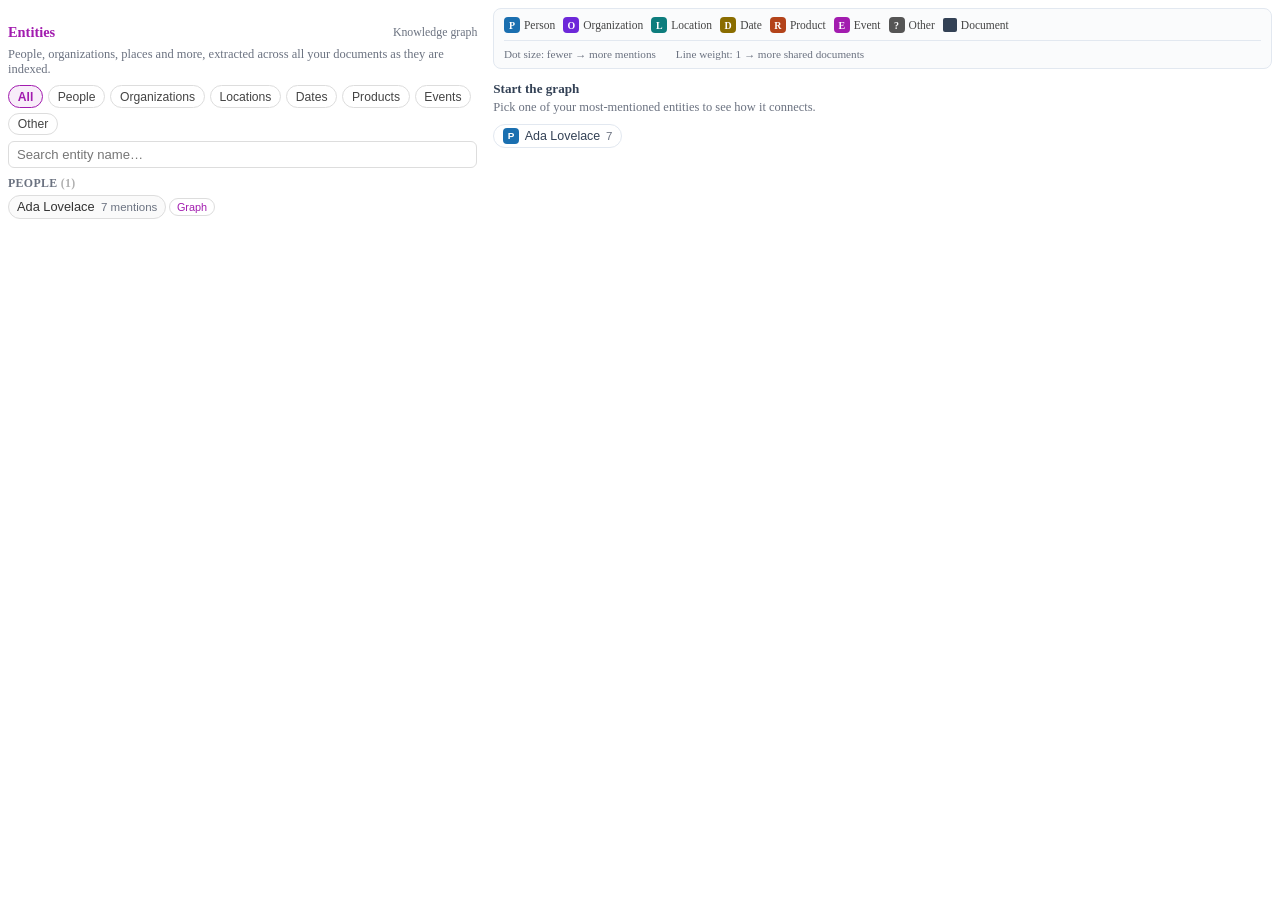
Test: selecting a document drives the rail to that document's entities
Click the button with test id "entity-open-in-graph" at (192, 207), box [170,198,214,216]
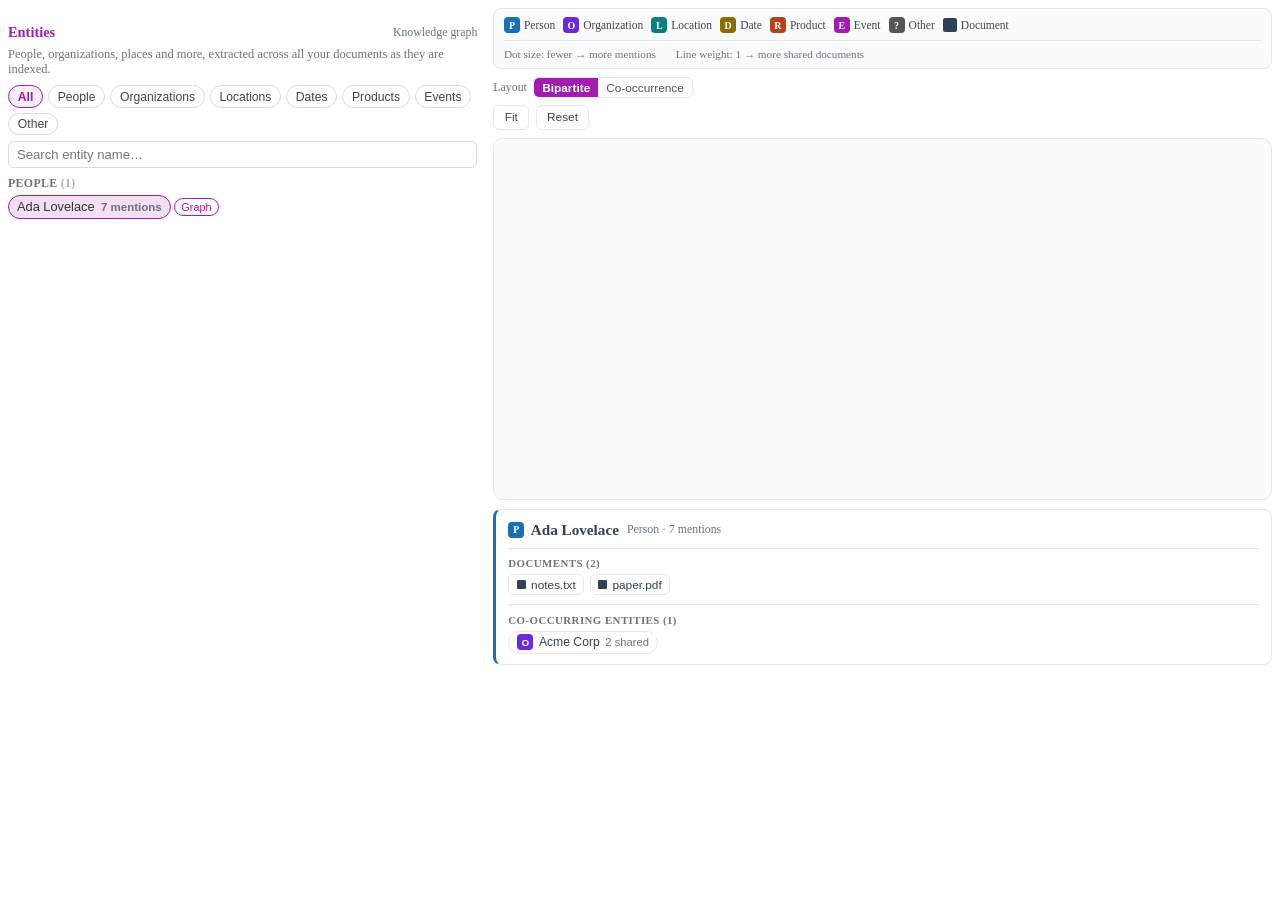
Expected: the element with test id "graph-detail" is shown, [493,509,1272,665]
Click the button with test id "graph-doc" showing "notes.txt" at (546, 585), box [508,574,584,595]
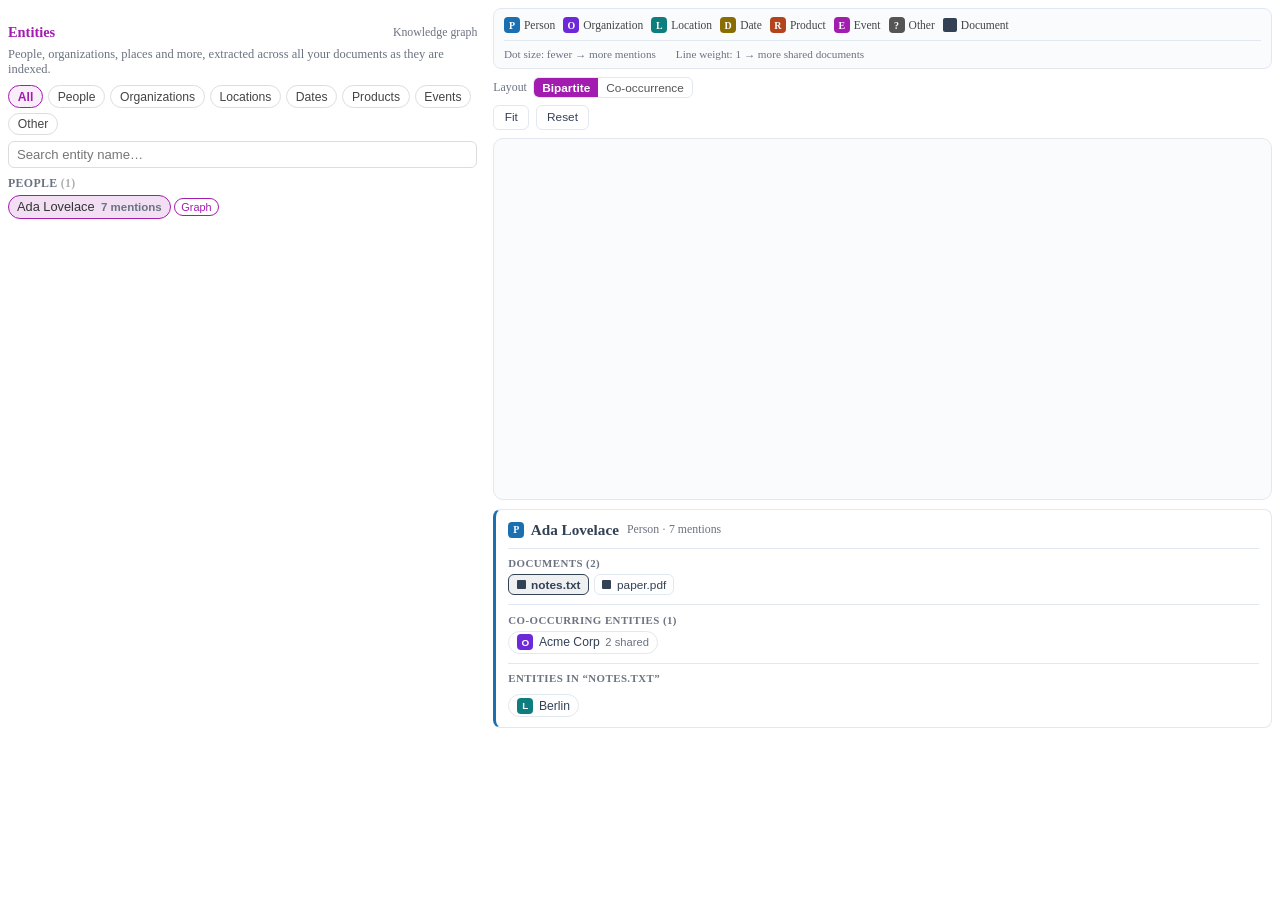
Expected: the button with test id "graph-doc-entity" shows "Berlin", [508,694,579,717]
